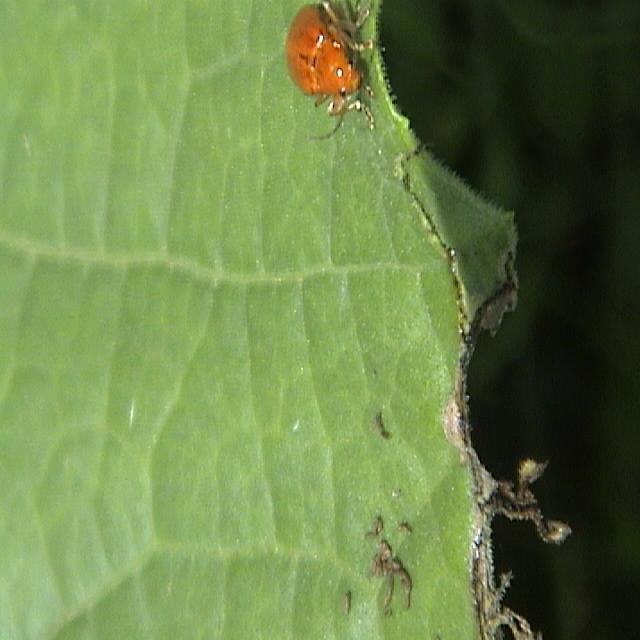Pumpkin Beetle: (457, 433, 570, 622), (280, 0, 385, 162), (403, 200, 490, 304)
